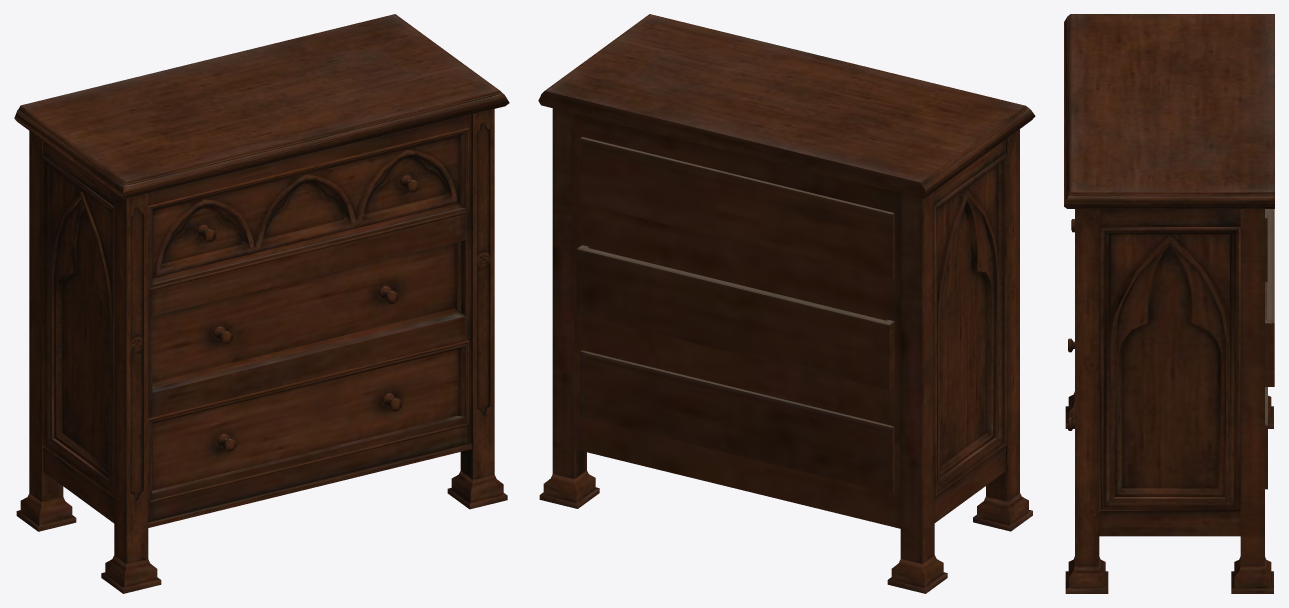
The model's file is gothiccommode_01.glb.
The picture shows the model from 3 angles, left to right: view 1: azimuth 30°, elevation 25°; view 2: azimuth 150°, elevation 25°; view 3: azimuth 270°, elevation 25°; orthographic projection. The views are drawn at different scales.
Visible parts, largest first — view 1: GothicCommode_01, GothicCommode_01_door01, GothicCommode_01_door03, GothicCommode_01_door02; view 2: GothicCommode_01, GothicCommode_01_door02, GothicCommode_01_door03, GothicCommode_01_door01; view 3: GothicCommode_01, GothicCommode_01_door02, GothicCommode_01_door03.
Boxes of the visible parts, x1=… form: GothicCommode_01: x1=14, y1=14, x2=509, y2=593; GothicCommode_01_door01: x1=148, y1=127, x2=469, y2=291; GothicCommode_01_door03: x1=148, y1=340, x2=469, y2=503; GothicCommode_01_door02: x1=152, y1=241, x2=461, y2=387; GothicCommode_01: x1=538, y1=14, x2=1035, y2=593; GothicCommode_01_door02: x1=576, y1=245, x2=894, y2=390; GothicCommode_01_door03: x1=580, y1=350, x2=894, y2=493; GothicCommode_01_door01: x1=580, y1=137, x2=894, y2=279; GothicCommode_01: x1=1064, y1=14, x2=1274, y2=593; GothicCommode_01_door02: x1=1265, y1=209, x2=1274, y2=386; GothicCommode_01_door03: x1=1068, y1=338, x2=1267, y2=489.
Bounding box in the file's own units: 1.2 × 1.21 × 0.5807.
Materials: 1 (1 with a texture image).
